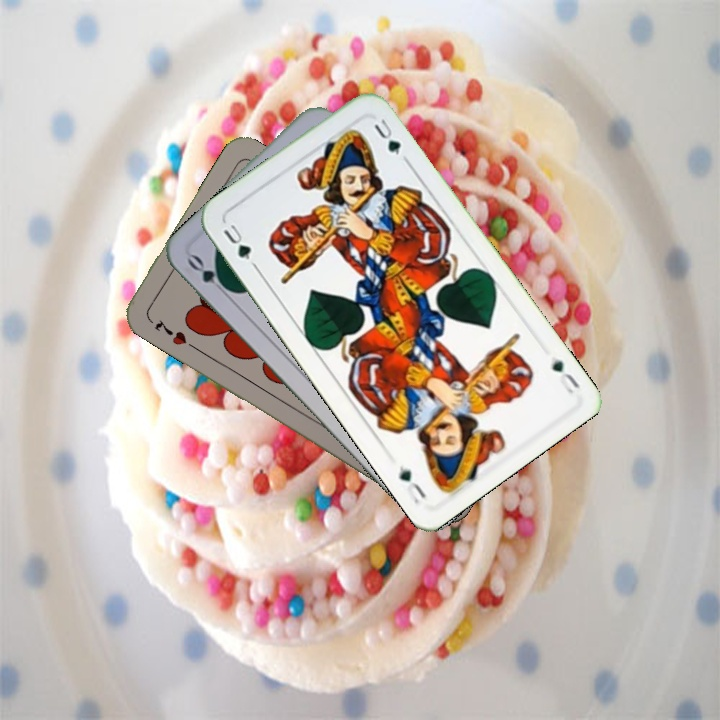GO: (183, 250, 235, 299)
GU: (547, 355, 583, 397), (219, 220, 254, 263)
H7: (151, 315, 190, 348)
